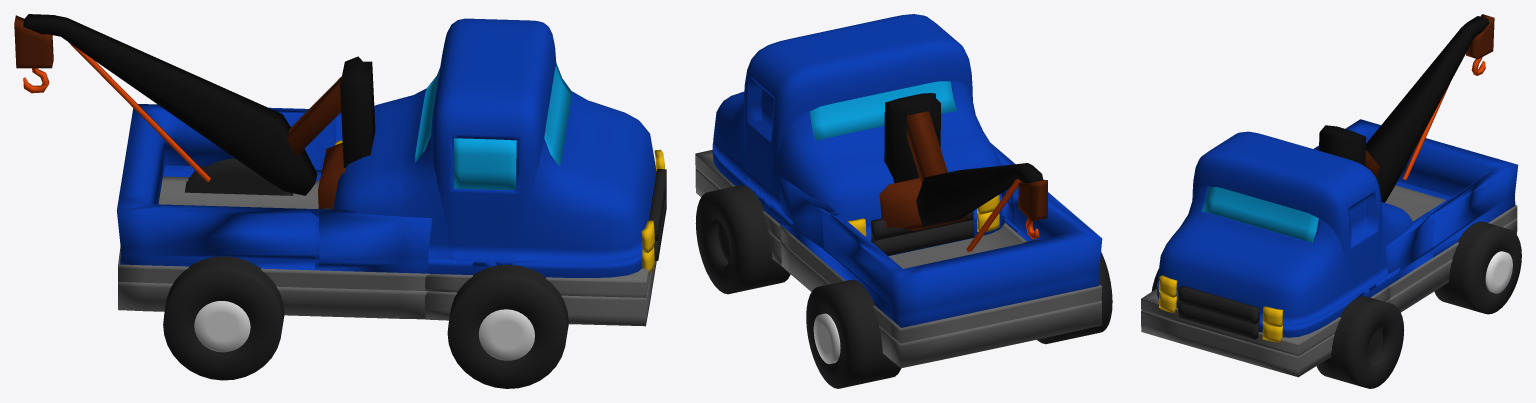
Rendered from truck_02.glb.
The picture shows the model from 3 angles, left to right: view 1: azimuth 30°, elevation 25°; view 2: azimuth 150°, elevation 25°; view 3: azimuth 270°, elevation 25°; orthographic projection. The views are drawn at different scales.
Visible parts, largest first — view 1: Cube.007, Cube.009, Cylinder.004, Cube.012, Cube.010, Cube.011, Cube.014, Cube.006, Cube.005, Cylinder.003, Cylinder.001, Cube.013 (+5 smaller); view 2: Cube.007, Cube.009, Cylinder.004, Cube.010, Cube.012, Cube.005, Cube.014, Cube.015, Cube.013, Cube.008, Cube.011, Cube.002 (+4 smaller); view 3: Cube.007, Cylinder.004, Cube.009, Cube.011, Cube.012, Cube.010, Cube.005, Cube.003, Cube.014, Cube.008, Cylinder.005, Cube.035 (+3 smaller).
Boxes of the visible parts, x1,y1,x2,y2 form: Cube.007: (333,18,656,277); Cube.009: (116,104,431,273); Cylinder.004: (163,158,568,388); Cube.012: (23,14,317,195); Cube.010: (118,176,429,319); Cube.011: (425,261,656,326); Cube.014: (340,56,375,167); Cube.006: (454,138,516,189); Cube.005: (415,64,571,166); Cylinder.003: (194,301,250,352); Cylinder.001: (478,309,534,360); Cube.013: (287,76,341,155); Cube.007: (712,14,1004,256); Cube.009: (778,143,1102,327); Cylinder.004: (695,185,1112,388); Cube.010: (779,222,1101,368); Cube.012: (916,163,1043,227); Cube.005: (809,81,956,140); Cube.014: (884,93,940,183); Cube.015: (879,178,966,230); Cube.013: (907,111,947,184); Cube.008: (871,220,973,255); Cube.011: (695,150,781,265); Cube.002: (1018,179,1047,221); Cube.007: (1157,131,1412,337); Cylinder.004: (1151,221,1521,388); Cube.009: (1314,119,1518,285); Cube.011: (1141,287,1390,377); Cube.012: (1365,16,1489,202); Cube.010: (1385,185,1517,312); Cube.005: (1202,186,1318,243); Cube.003: (1178,285,1259,324); Cube.014: (1319,125,1366,165); Cube.008: (1178,302,1259,339); Cylinder.005: (1485,251,1512,293); Cube.035: (1158,275,1283,326).
Bounding box in the file's own units: 2.43 × 1.27 × 2.05.
